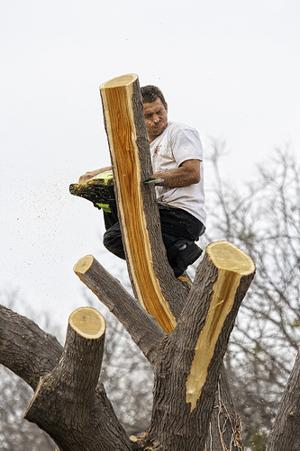person: (78, 84, 207, 283)
